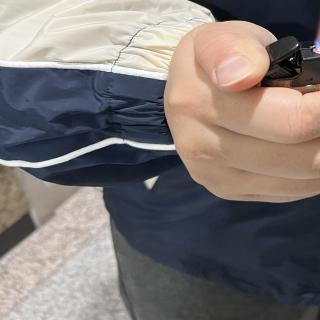fire: (311, 0, 320, 48)
